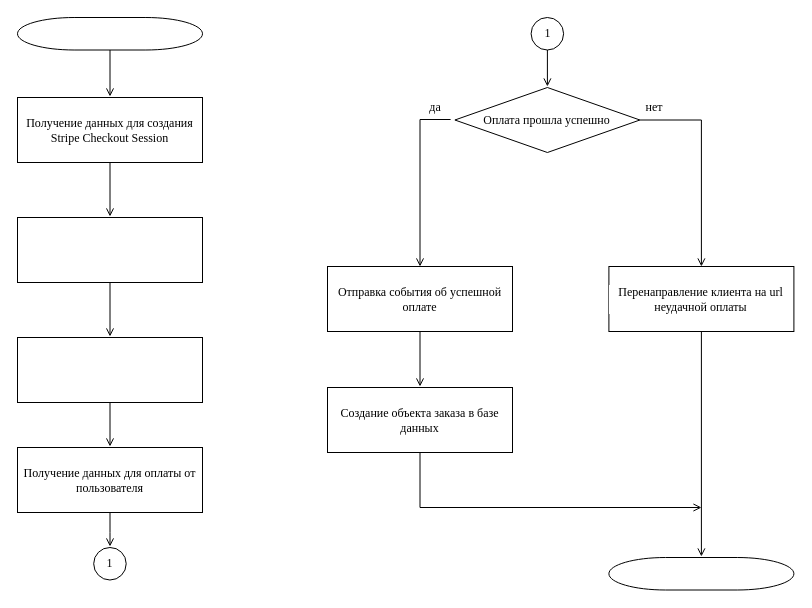
Image size: 812x608. Some labels were removed from this diagram. Each missing label, with the box of its shape:
Конец: (608, 556, 794, 590)
Начало: (16, 16, 202, 50)
Отправка пользователю URL для оплаты: (16, 336, 202, 402)
Создание Stripe Checkout Session: (16, 216, 202, 282)
